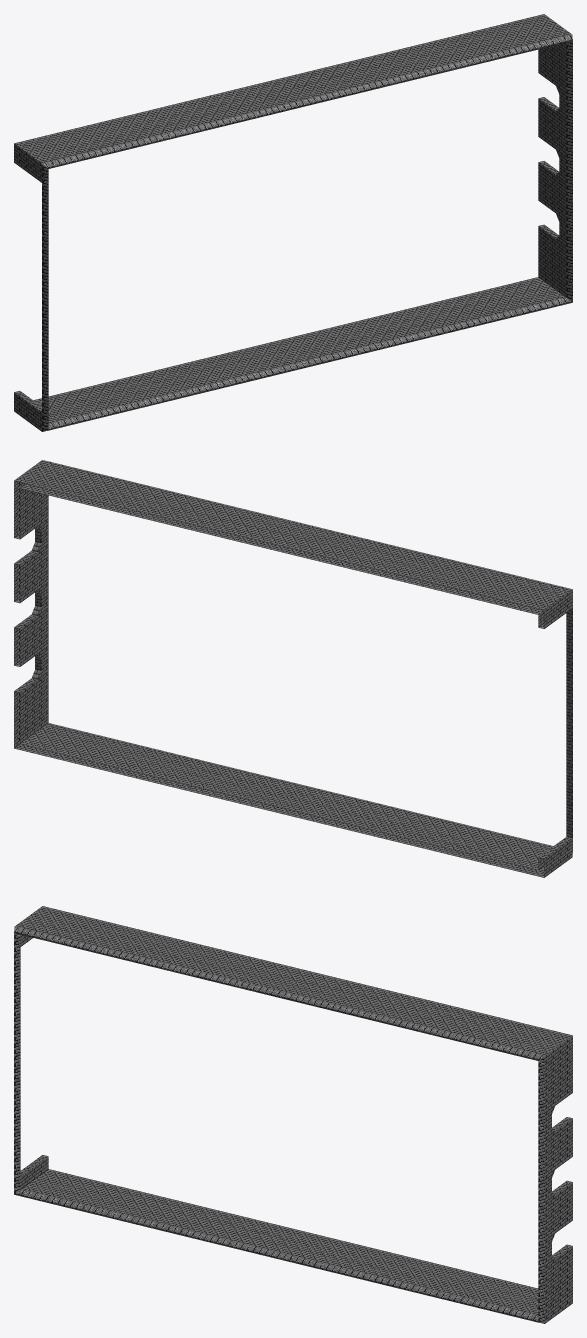
File: fortress2.obj
The picture shows the model from 3 angles, top to bottom: view 1: azimuth 30°, elevation 25°; view 2: azimuth 150°, elevation 25°; view 3: azimuth 330°, elevation 25°; orthographic projection.
Bounding box in the file's own units: 2784 × 1344 × 288.
